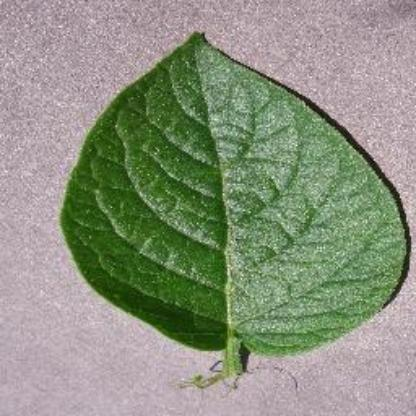Healthy-plant: (56, 30, 406, 382)
